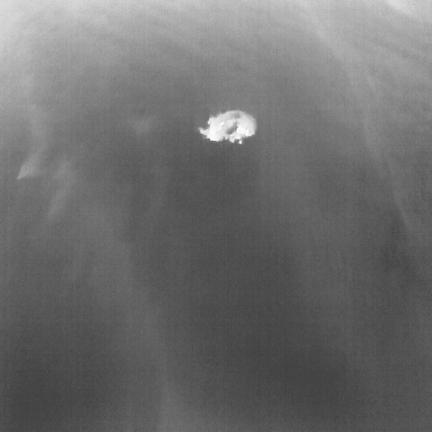flukeprints: (198, 110, 256, 143)
